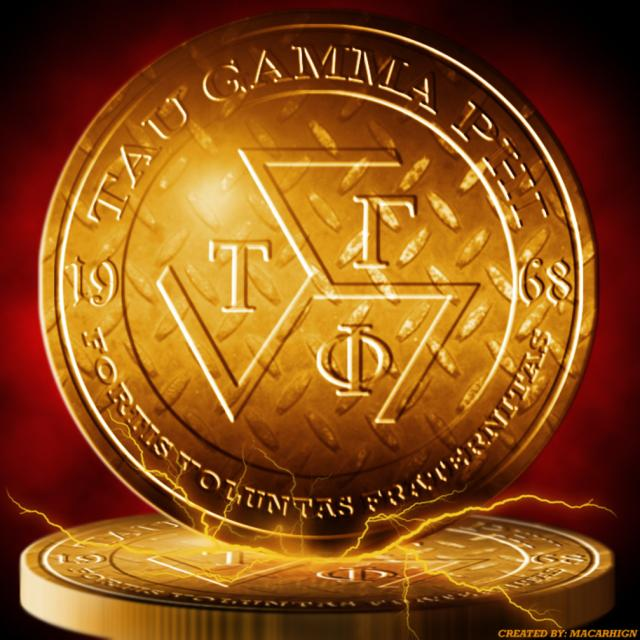Coin: (33, 24, 595, 562), (17, 511, 620, 639)
